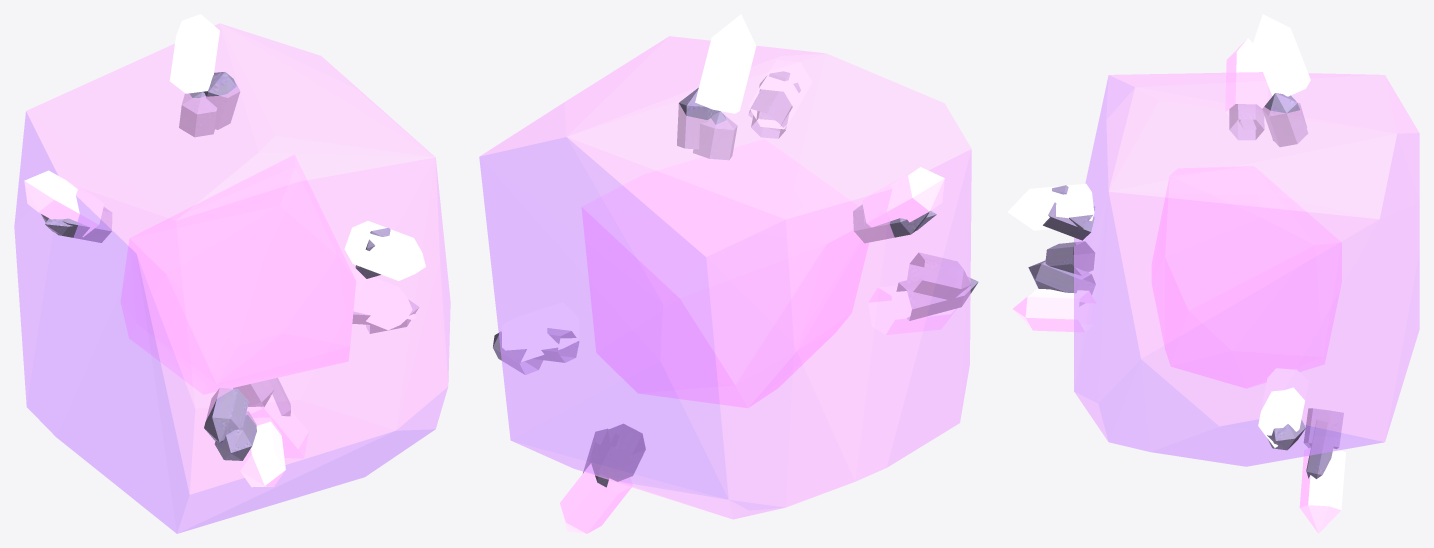
File: block.glb
3 renders of one model, left to right at view 1: azimuth 30°, elevation 25°; view 2: azimuth 150°, elevation 25°; view 3: azimuth 270°, elevation 25°, orthographic. The views are drawn at different scales.
Visible parts, largest first — view 1: shell, heart, body; view 2: shell, heart, body; view 3: shell, heart, body.
Boxes of the visible parts, x1,y1,x2,y2 form: shell: [14, 23, 450, 533]; heart: [120, 155, 355, 394]; body: [24, 14, 425, 487]; shell: [479, 36, 971, 519]; heart: [582, 139, 868, 407]; body: [493, 14, 978, 533]; shell: [1074, 72, 1419, 466]; heart: [1152, 166, 1341, 388]; body: [1008, 14, 1345, 533].
Bounding box in the file's own units: 1.14 × 1.32 × 1.07.
Materials: 5 (1 with a texture image).
